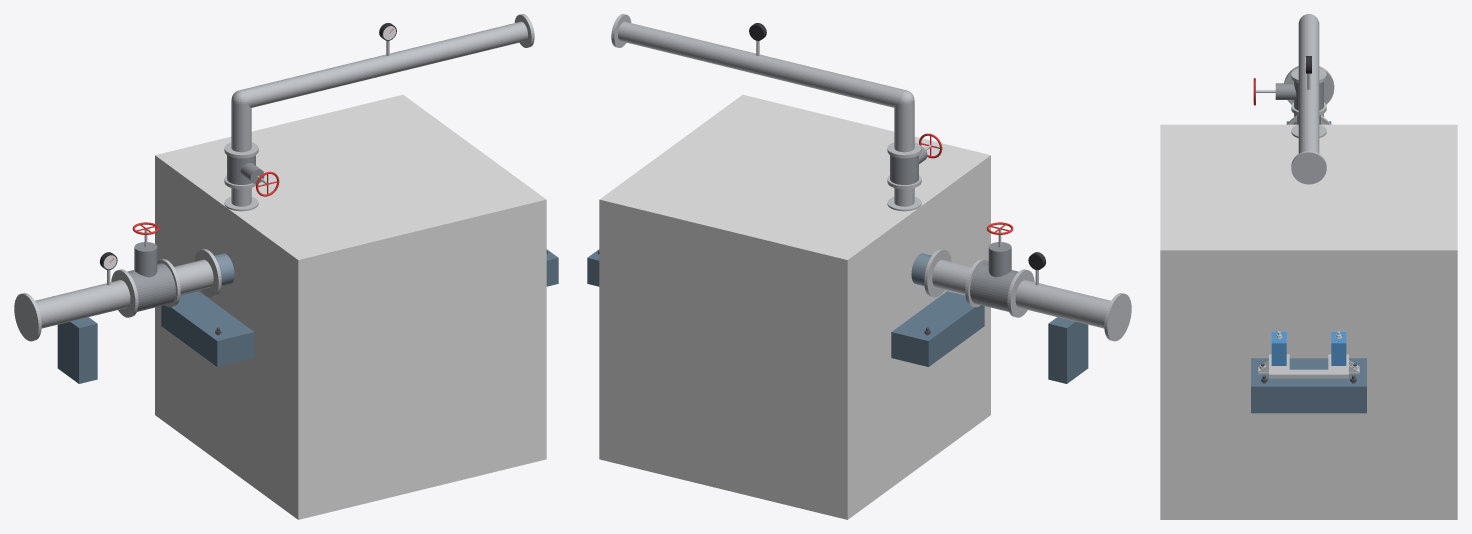
The model's file is Assembly.fbx.
3 views of the same model, side by side, from view 1: azimuth 30°, elevation 25°; view 2: azimuth 150°, elevation 25°; view 3: azimuth 270°, elevation 25° (orthographic). The views are drawn at different scales.
Visible parts, largest first — view 1: Cube, Delivery_Pipe_Horizontal, Suction_Pipe, Suction_Support, BaseFrame_TopPlate, Suction_Valve_body, BaseFrame_Channel_L, Delivery_Pipe_Vertical, BaseFrame_Cross_0, Suction_EndFlange, Suction_Valve_bonnet; view 2: Cube, Delivery_Pipe_Horizontal, Suction_Pipe, Suction_Support, BaseFrame_TopPlate, Suction_Valve_body, BaseFrame_Channel_R, Delivery_Pipe_Vertical, BaseFrame_Cross_0, Suction_EndFlange, Delivery_Valve_body, Suction_Valve_bonnet; view 3: Cube, Delivery_Pipe_Horizontal, BaseFrame_Cross_4, BaseFrame_TopPlate, Delivery_EndFlange, SlideBase_Plate, MotorProxy_Foot_1L, MotorProxy_Foot_1R, Suction_EndFlange, Delivery_Valve_bonnet.
Boxes of the visible parts, x1,y1,x2,y2 form: Cube: (155, 94, 546, 519); Delivery_Pipe_Horizontal: (240, 21, 527, 107); Suction_Pipe: (35, 259, 213, 328); Suction_Support: (57, 317, 97, 383); BaseFrame_TopPlate: (169, 249, 558, 342); Suction_Valve_body: (127, 263, 175, 311); BaseFrame_Channel_L: (211, 259, 558, 366); Delivery_Pipe_Vertical: (231, 100, 251, 206); BaseFrame_Cross_0: (167, 307, 211, 362); Suction_EndFlange: (14, 293, 41, 341); Suction_Valve_bonnet: (134, 242, 157, 277); Cube: (599, 94, 990, 519); Delivery_Pipe_Horizontal: (618, 21, 905, 107); Suction_Pipe: (932, 259, 1110, 328); Suction_Support: (1048, 317, 1088, 383); BaseFrame_TopPlate: (587, 249, 976, 342); Suction_Valve_body: (970, 263, 1018, 311); BaseFrame_Channel_R: (587, 259, 934, 366); Delivery_Pipe_Vertical: (894, 100, 914, 206); BaseFrame_Cross_0: (934, 307, 978, 362); Suction_EndFlange: (1104, 293, 1131, 341); Delivery_Valve_body: (890, 155, 918, 184); Suction_Valve_bonnet: (988, 242, 1011, 277); Cube: (1160, 124, 1457, 519); Delivery_Pipe_Horizontal: (1298, 15, 1319, 153); BaseFrame_Cross_4: (1263, 388, 1354, 413); BaseFrame_TopPlate: (1251, 358, 1366, 387); Delivery_EndFlange: (1291, 151, 1326, 184); SlideBase_Plate: (1269, 354, 1348, 376); MotorProxy_Foot_1L: (1271, 332, 1286, 365); MotorProxy_Foot_1R: (1331, 332, 1346, 365); Suction_EndFlange: (1284, 66, 1334, 104); Delivery_Valve_bonnet: (1275, 83, 1296, 99).
Bounding box in the file's own units: 406 × 311 × 200.
